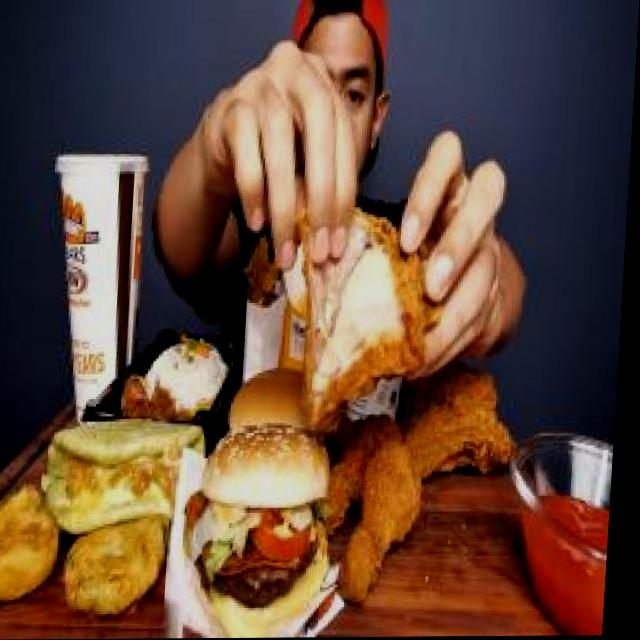AW cola: (49, 132, 165, 406)
black pepper rice bowl: (115, 333, 247, 419)
cheese burger: (221, 348, 334, 452)
fried chicken: (322, 342, 537, 608), (291, 172, 455, 416)
mango chicken pocket: (30, 406, 219, 545)
mozza burger: (187, 425, 344, 639)
perkedel: (61, 512, 179, 625), (0, 474, 70, 635)
